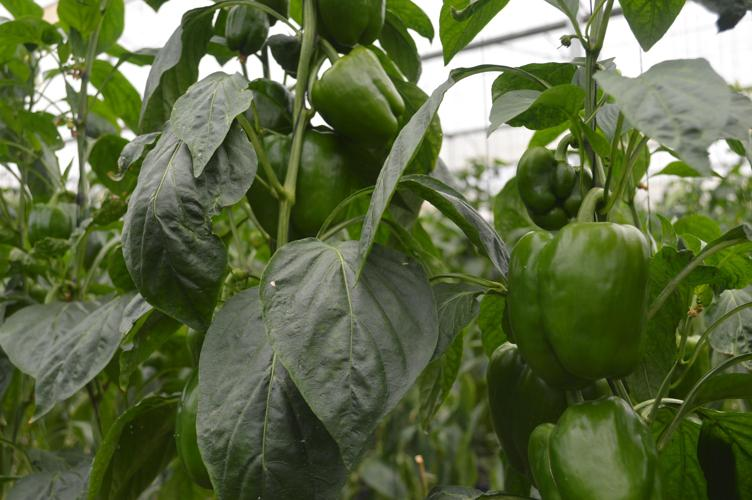BellPepper: (506, 224, 653, 385), (527, 394, 651, 500), (249, 131, 362, 238), (310, 49, 406, 152), (486, 344, 564, 469), (516, 147, 595, 232), (316, 1, 390, 47), (219, 7, 268, 54)
